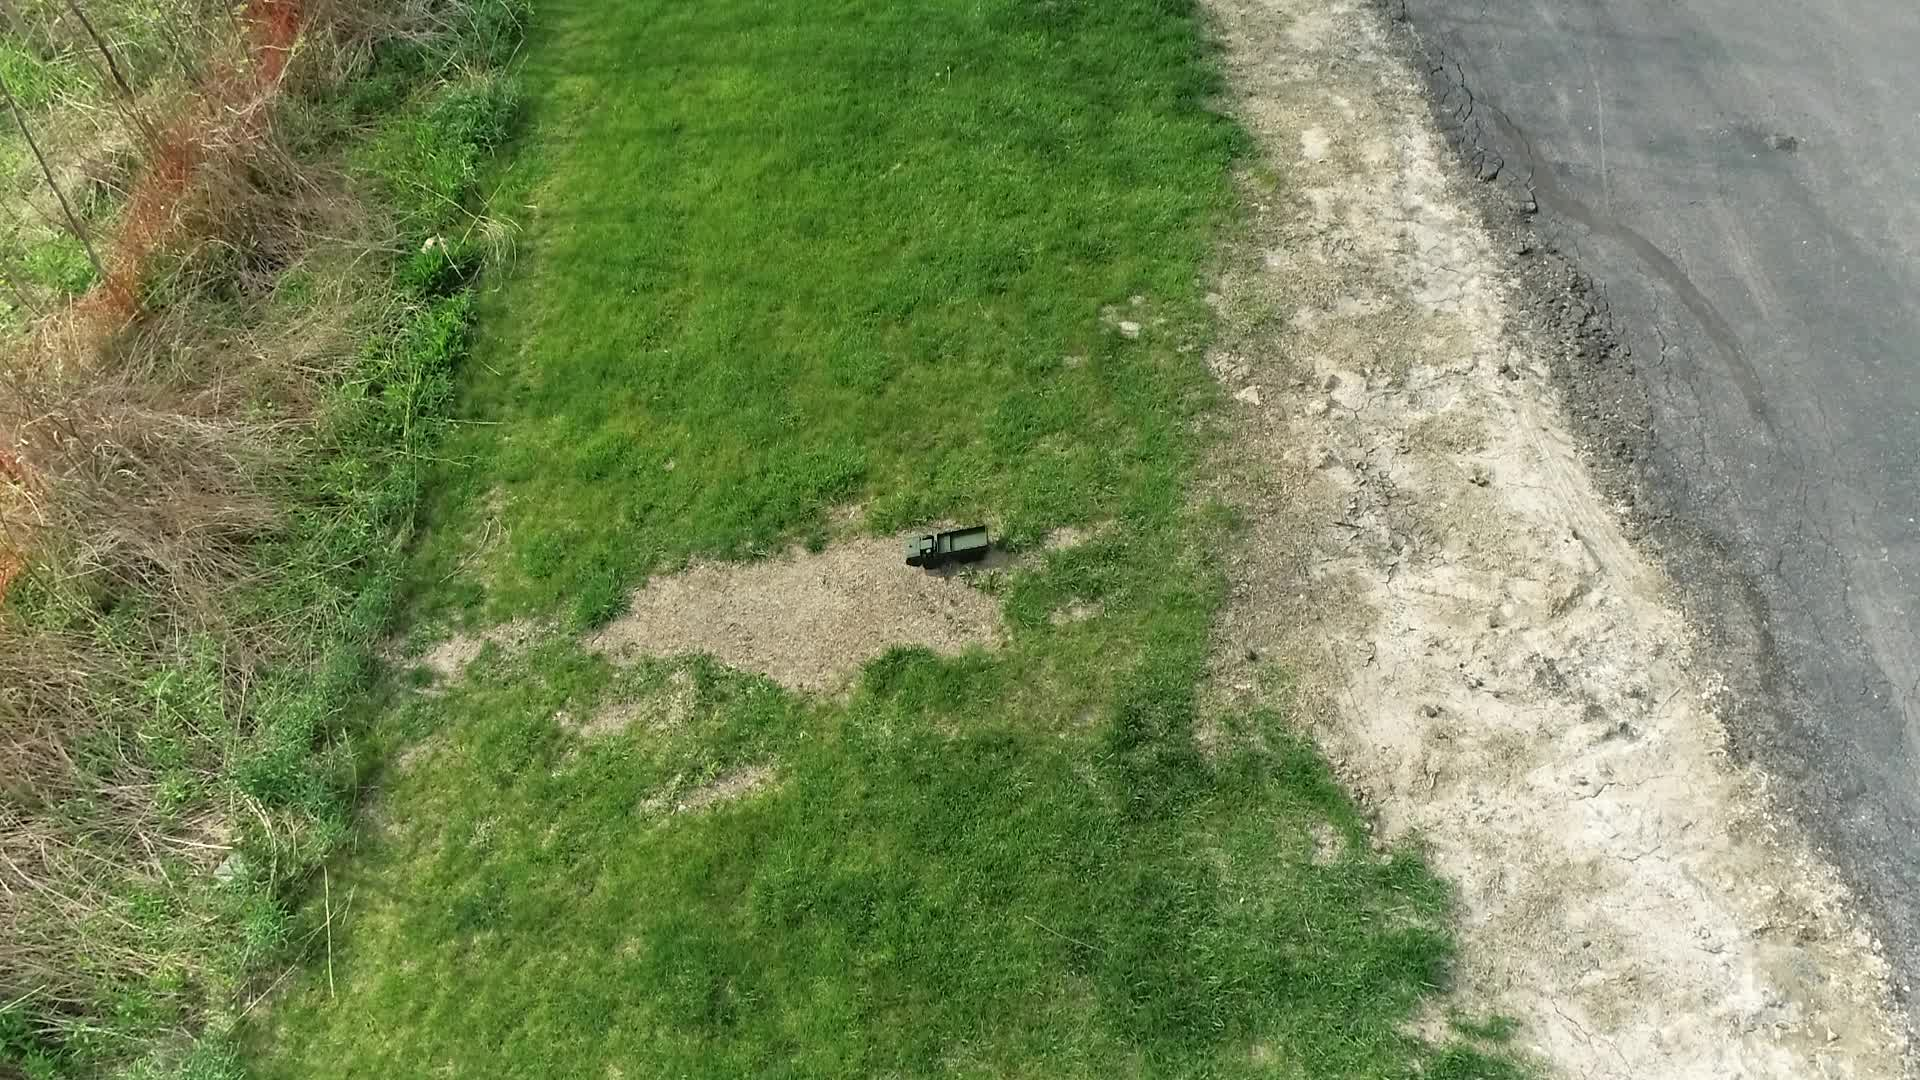transporter9: (902, 524, 992, 568)
